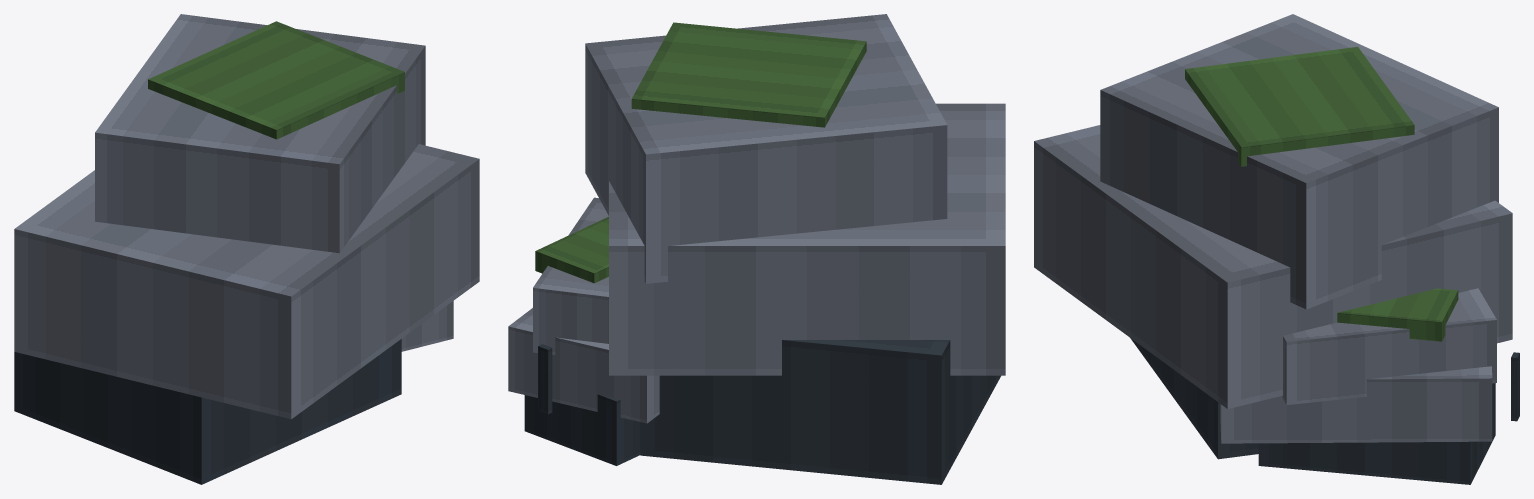
Rendered from rock_medium_forest.gltf.
The picture shows the model from 3 angles, left to right: view 1: azimuth 30°, elevation 25°; view 2: azimuth 150°, elevation 25°; view 3: azimuth 270°, elevation 25°; orthographic projection. The views are drawn at different scales.
Visible parts, largest first — view 1: root_mesh; view 2: root_mesh; view 3: root_mesh.
Boxes of the visible parts, <box> form: root_mesh: <box>14,14,479,484</box>; root_mesh: <box>508,14,1005,484</box>; root_mesh: <box>1034,14,1519,484</box>.
Size of the model in its own units: 1.45 by 1.03 by 1.41.
1 material, 1 textured.
